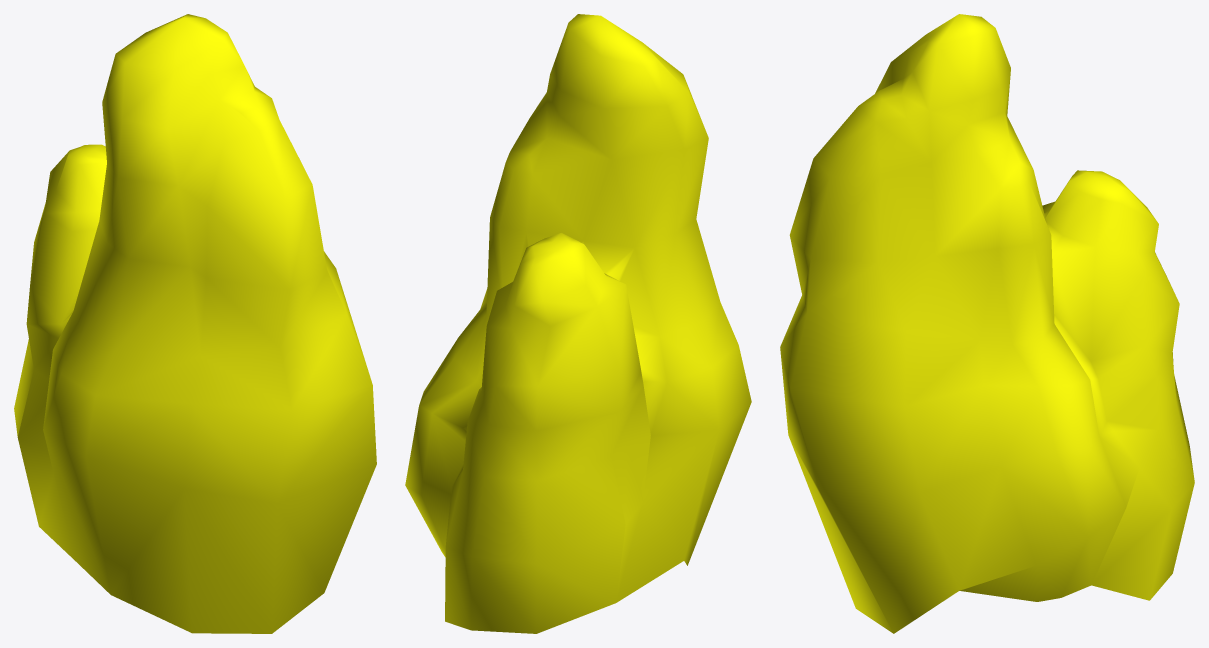
File: rock_pillar_00.glb
3 views of the same model, side by side, from view 1: azimuth 30°, elevation 25°; view 2: azimuth 150°, elevation 25°; view 3: azimuth 270°, elevation 25° (orthographic). The views are drawn at different scales.
Visible parts, largest first — view 1: rock_pillar_00; view 2: rock_pillar_00; view 3: rock_pillar_00.
Boxes of the visible parts, box(x1,y1,x2,y2) form: rock_pillar_00: box(14, 14, 376, 633); rock_pillar_00: box(405, 14, 751, 633); rock_pillar_00: box(780, 14, 1194, 633).
Size of the model in its own units: 24.72 by 47.44 by 30.91.
Materials: 1 (1 with a texture image).
